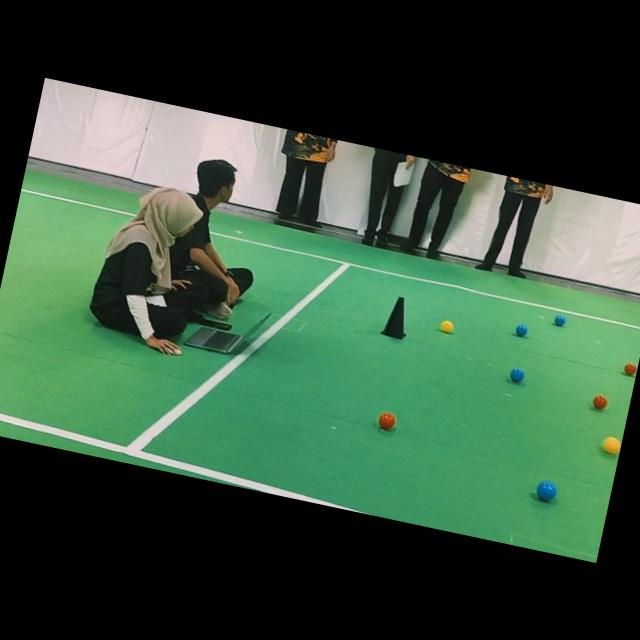ball: (536, 480, 556, 501), (378, 411, 396, 430), (603, 437, 621, 454), (592, 394, 608, 409), (509, 367, 524, 382), (623, 362, 637, 375), (515, 324, 528, 337), (440, 320, 453, 332), (554, 314, 566, 326)
